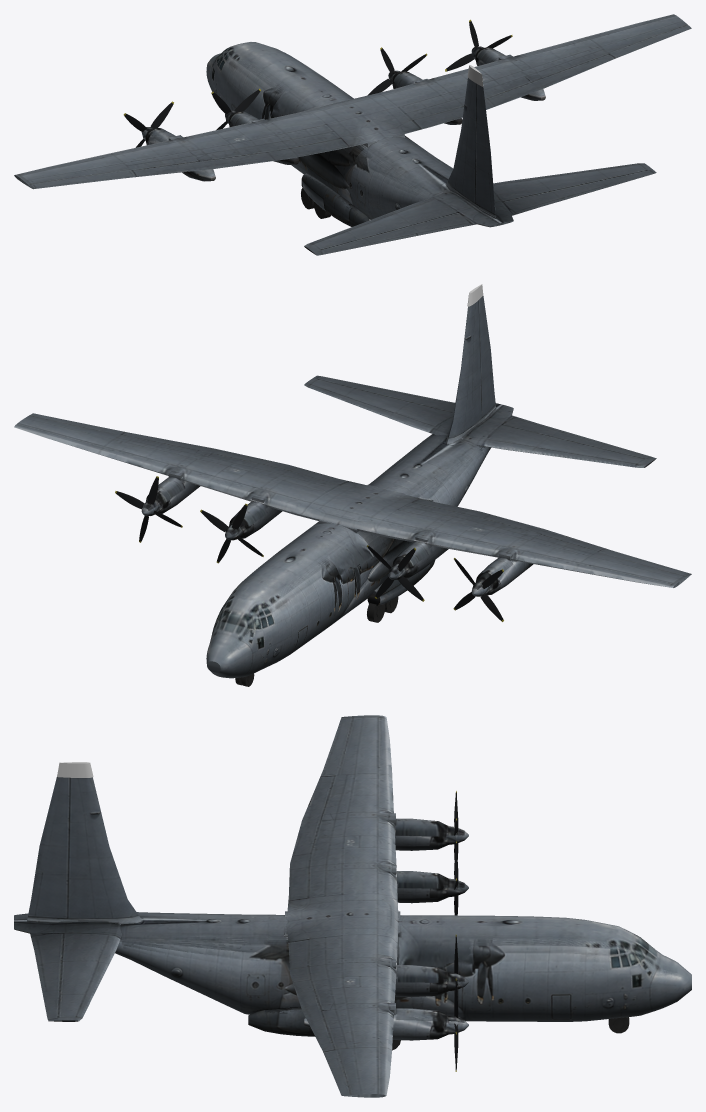
3 views of the same model, one above another, from view 1: azimuth 30°, elevation 25°; view 2: azimuth 150°, elevation 25°; view 3: azimuth 270°, elevation 25° (orthographic). The views are drawn at different scales.
Visible parts, largest first — view 1: Body, Prop3, Prop2, Prop1, Prop0; view 2: Body, Prop3, Prop2, Prop0, Prop1; view 3: Body.
Part boxes in pixels (x1,y1,x2,y2): Body: [14, 14, 691, 255]; Prop3: [445, 19, 512, 71]; Prop2: [367, 47, 427, 95]; Prop1: [211, 88, 260, 130]; Prop0: [123, 101, 173, 147]; Body: [14, 284, 691, 686]; Prop3: [115, 476, 182, 542]; Prop2: [200, 503, 263, 563]; Prop0: [453, 558, 503, 621]; Prop1: [366, 545, 424, 601]; Body: [14, 715, 691, 1097].
Bounding box in the file's own units: 38.94 × 12.83 × 29.45.
3 materials, 2 textured.
